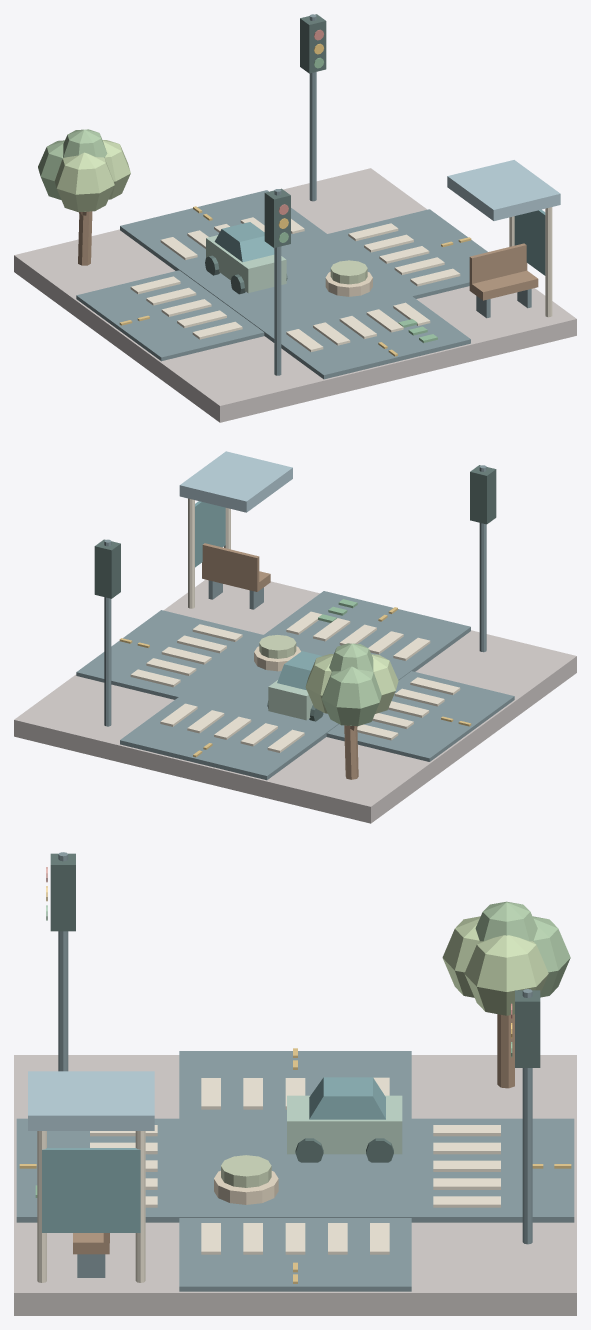
Rendered from dot-tpl-road-2.glb.
3 renders of one model, top to bottom at view 1: azimuth 30°, elevation 25°; view 2: azimuth 150°, elevation 25°; view 3: azimuth 270°, elevation 25°, orthographic. The views are drawn at different scales.
Parts seen in each view (by area): view 1: paving; view 2: paving; view 3: paving.
Part boxes in pixels (<box>): paving: <box>14,14,576,422</box>; paving: <box>14,451,576,823</box>; paving: <box>14,852,576,1315</box>.
Size of the model in its own units: 4 by 2.15 by 4.
Materials: 1 (1 with a texture image).
